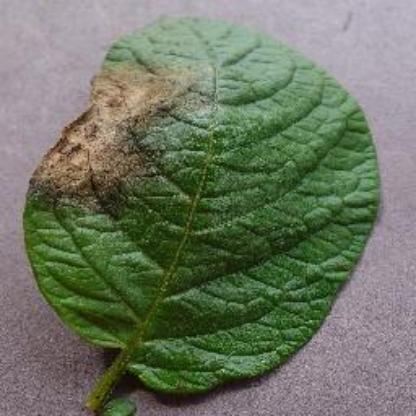Late-Blight: (22, 12, 384, 412)
